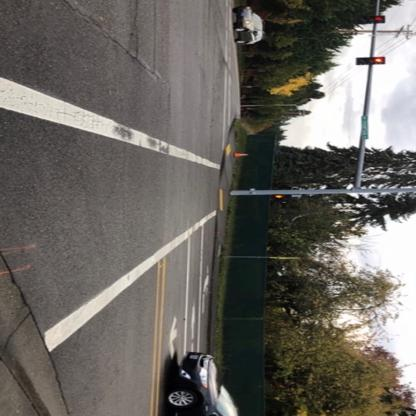Don-t Walk: (272, 192, 290, 200)
